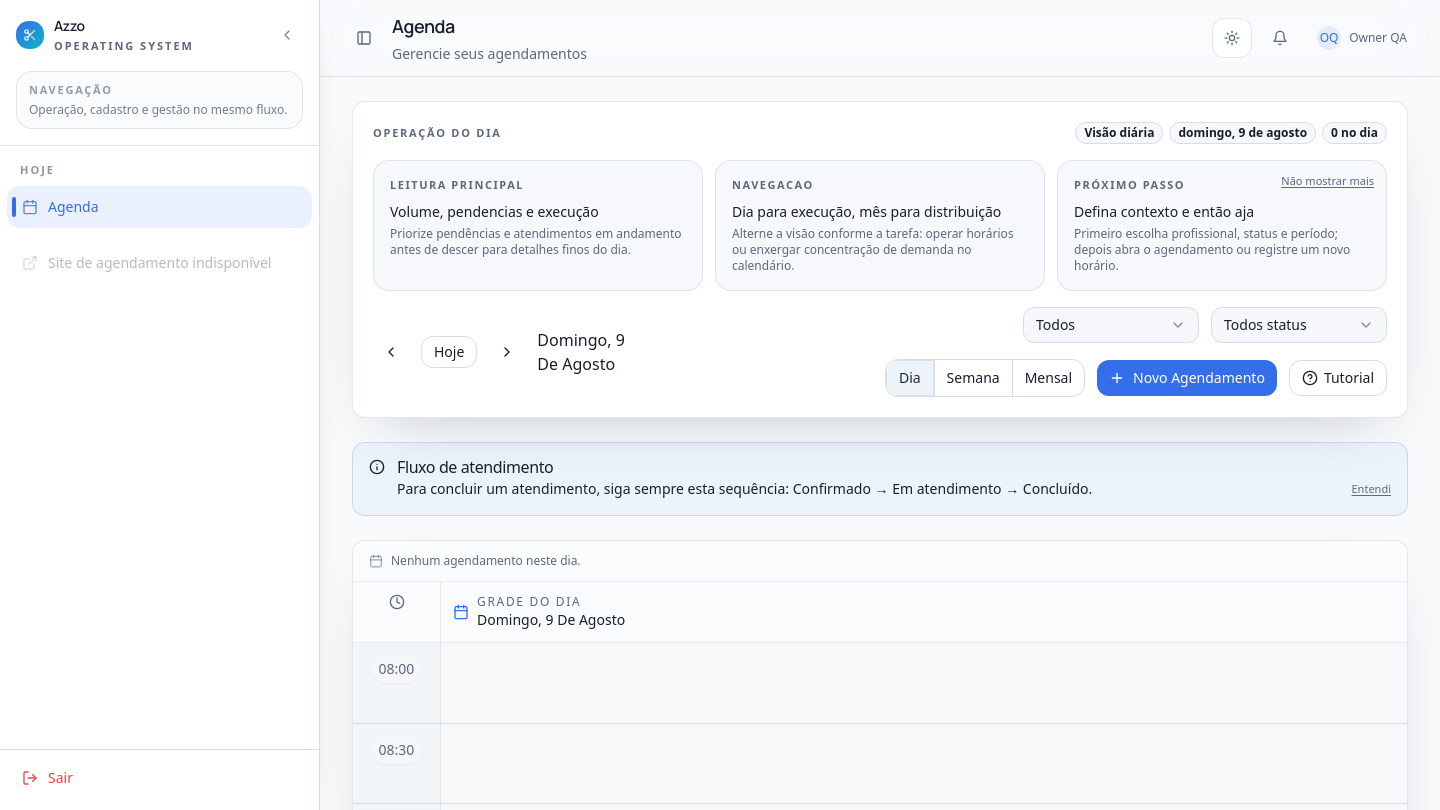
it: Agenda › caches the weekly view per filter instead of refetching all 7 days every time
The image size is (1440, 810).
Click the button "Semana" at (973, 378), box 934,360 -> 1013,396
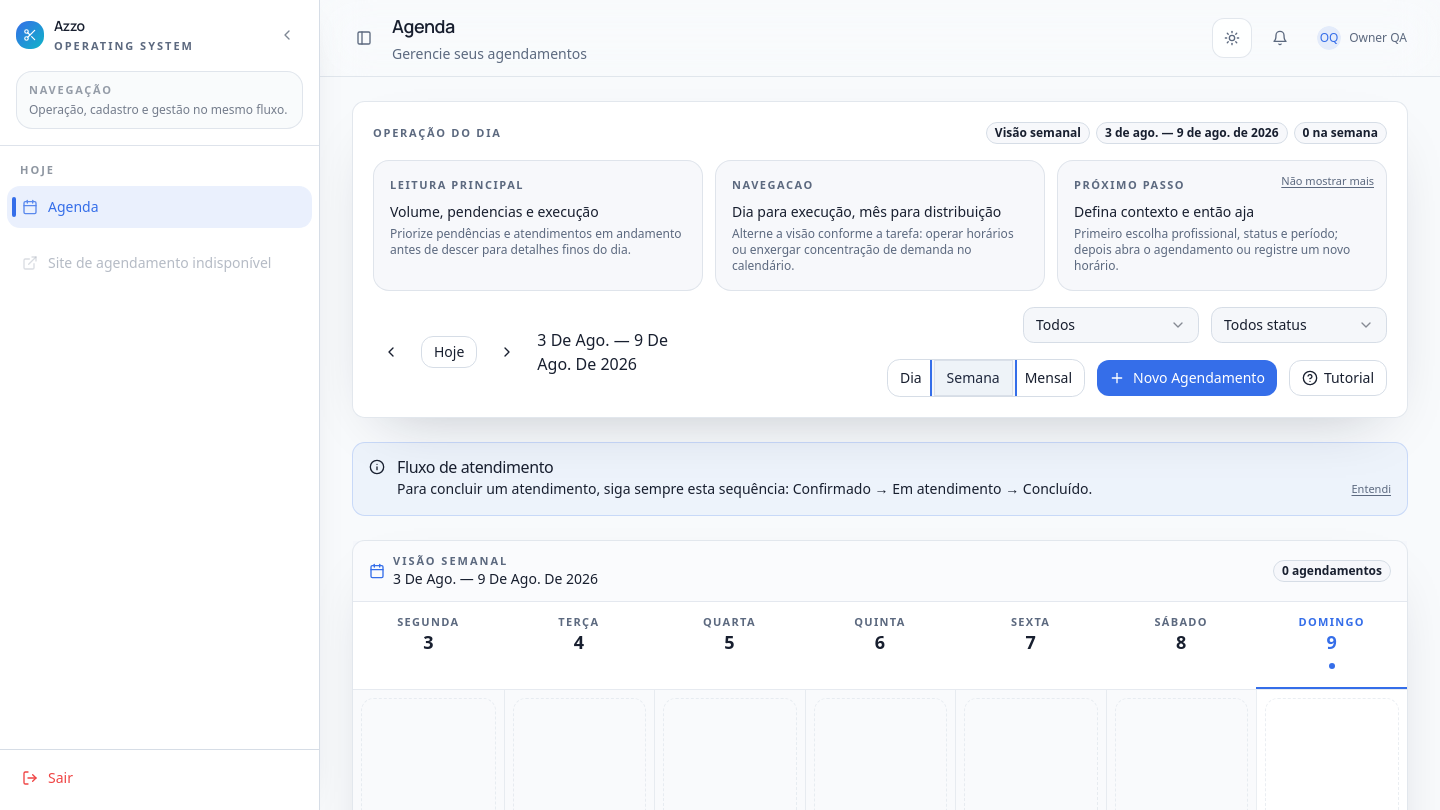
// Troca de status: filtro novo, precisa buscar de novo (mais 7 chamadas).
Click the dropdown labelled "Todos status" at (1299, 324), box 1211,306 -> 1387,342
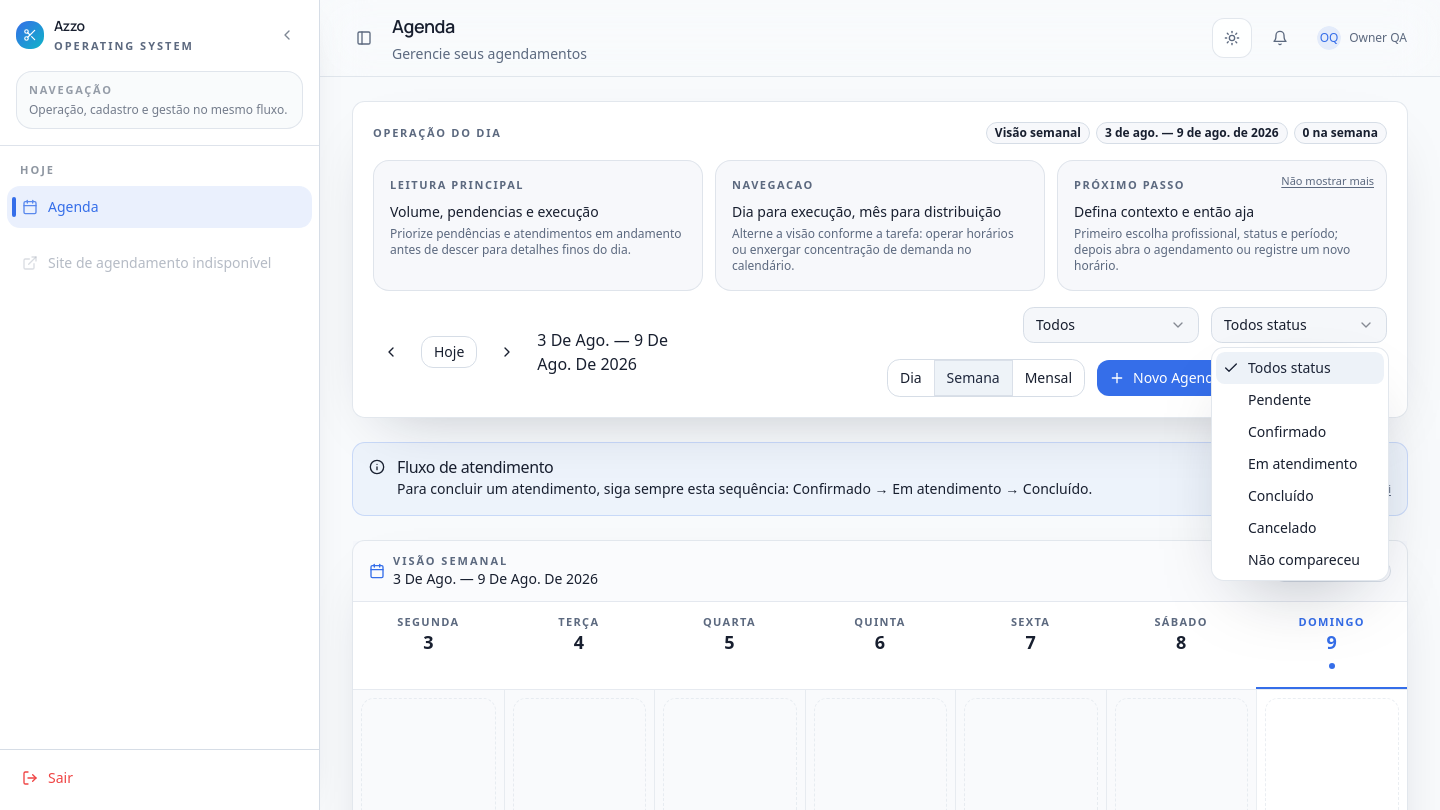
Click the option "Confirmado" at (1287, 432), box 1248,422 -> 1326,441
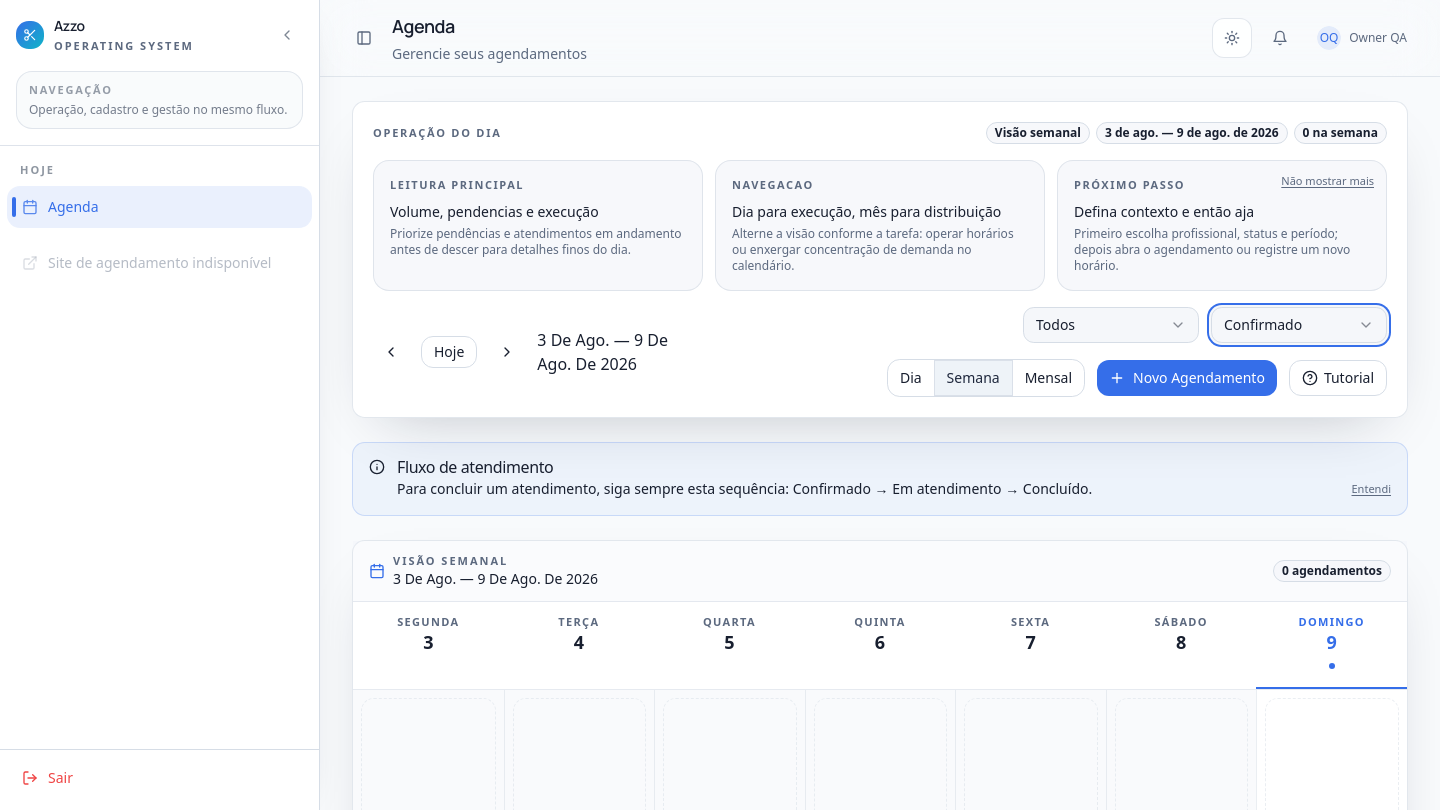
Click the dropdown labelled "Confirmado" at (1299, 324), box 1211,306 -> 1387,342
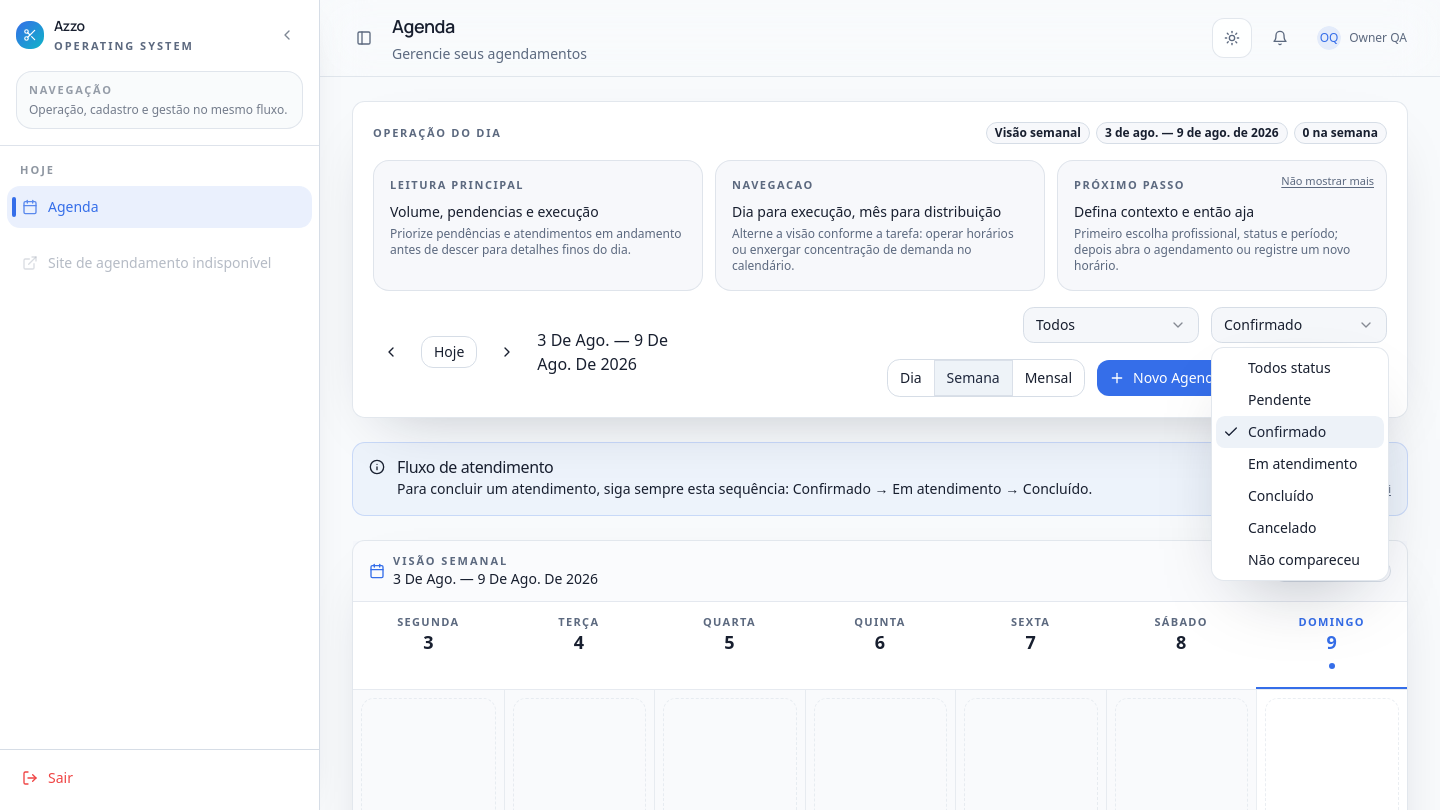
Click the option "Todos status" at (1289, 368), box 1248,358 -> 1331,377
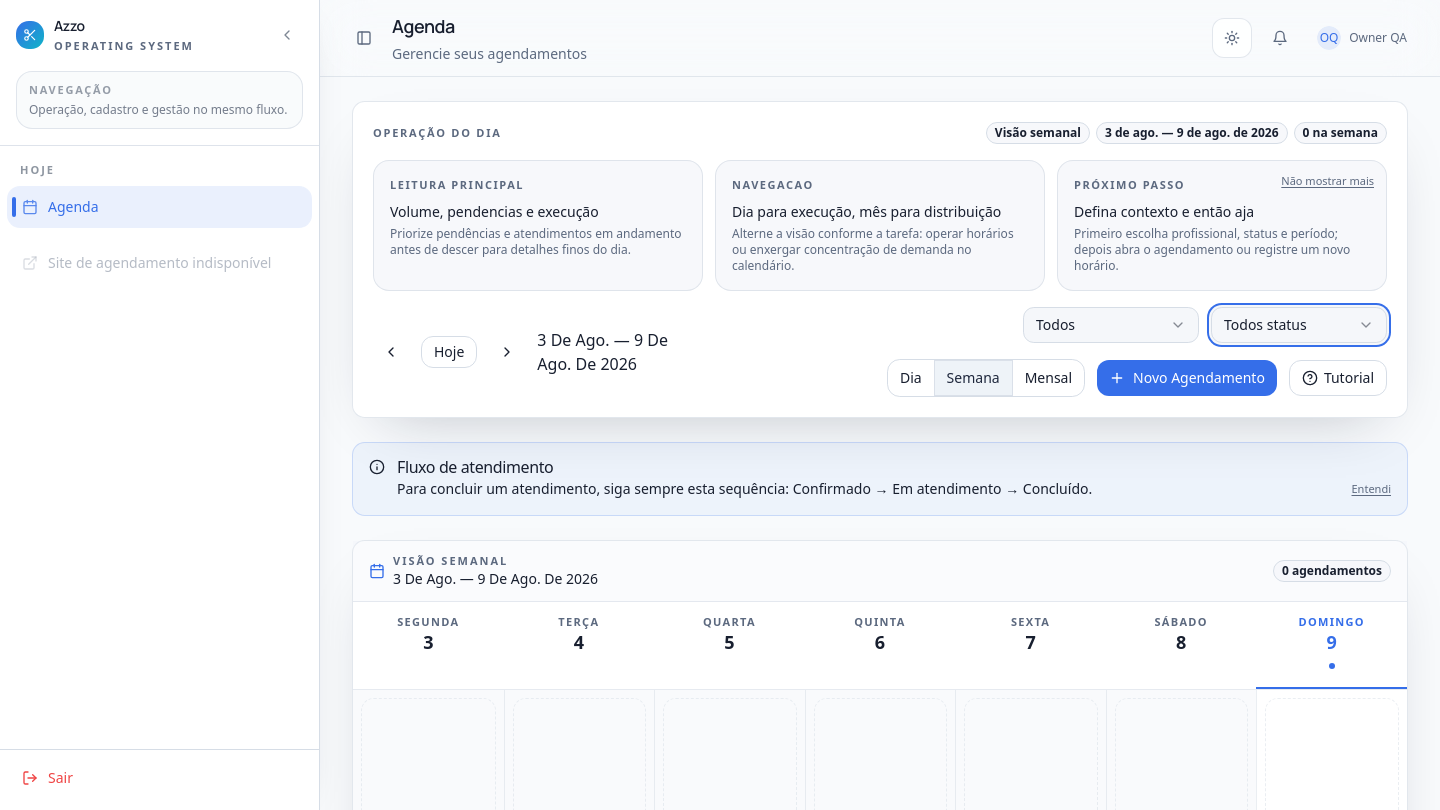
Expected: the dropdown labelled "Todos status" is shown, 1211,306 -> 1387,342
